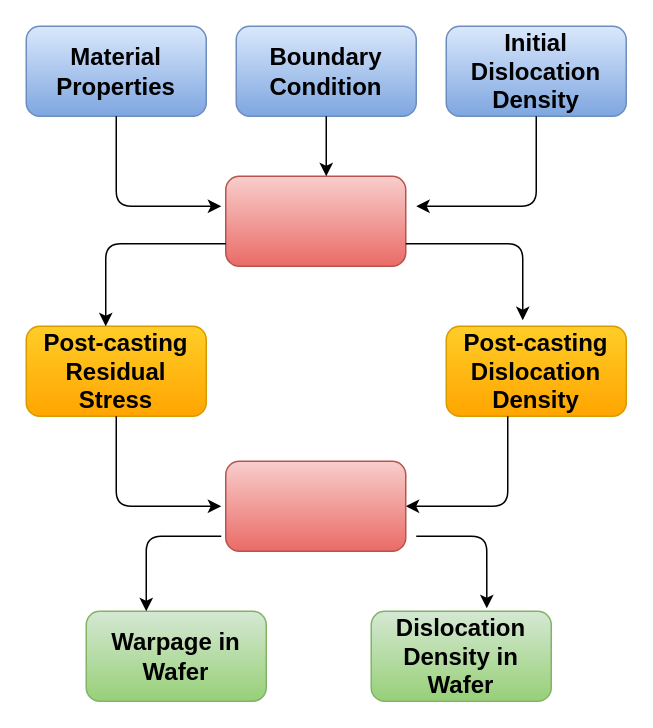
The diagram is 653 pixels wide and 728 high, and some of its shapes have lost their labels. The shapes that lost their labels are listed below. From the top down, each one's centre as x and y in pixels, then its label:
the point at 315,220: Casting Model
the point at 315,505: Wire-Sawing Model
